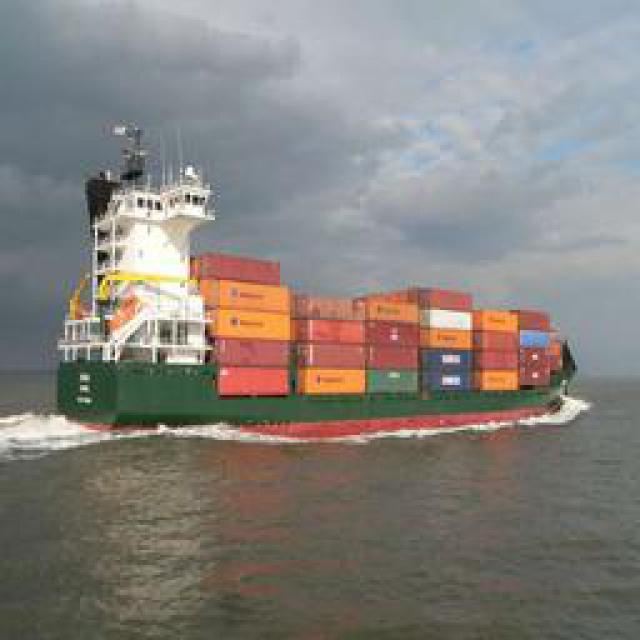Ship: (59, 116, 579, 444)
